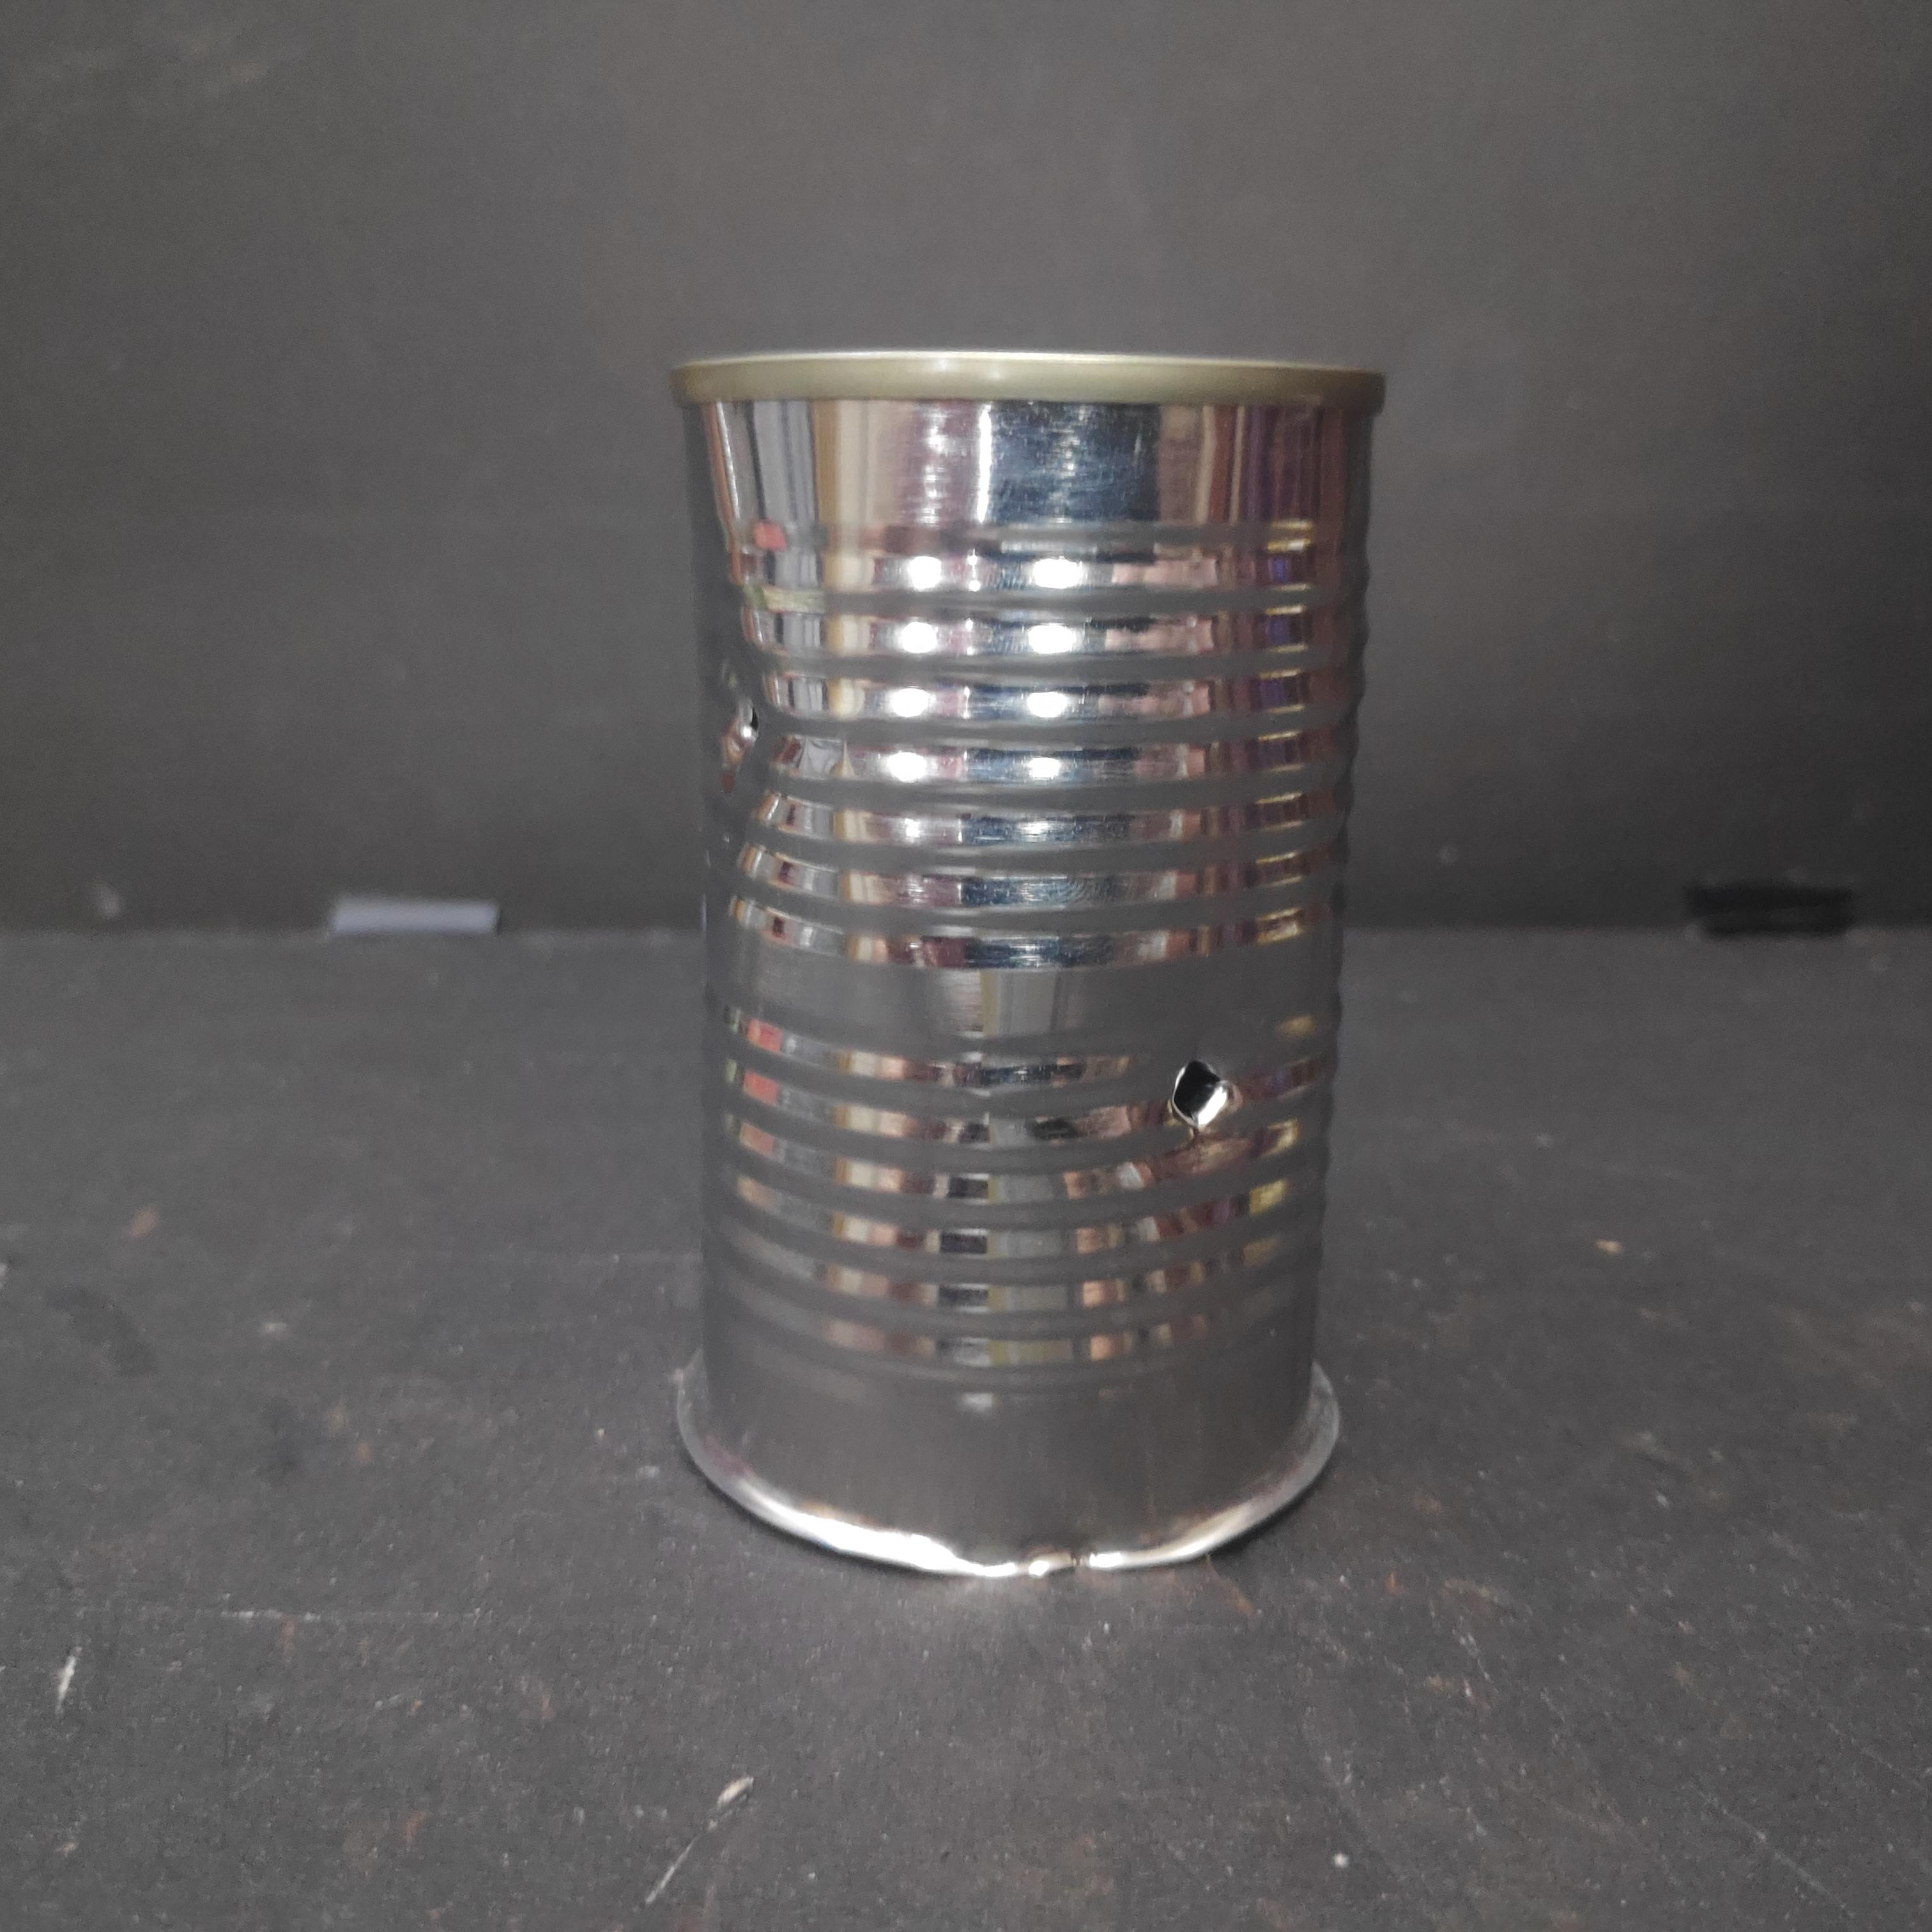Critical Defect: (665, 333, 1396, 1599)
